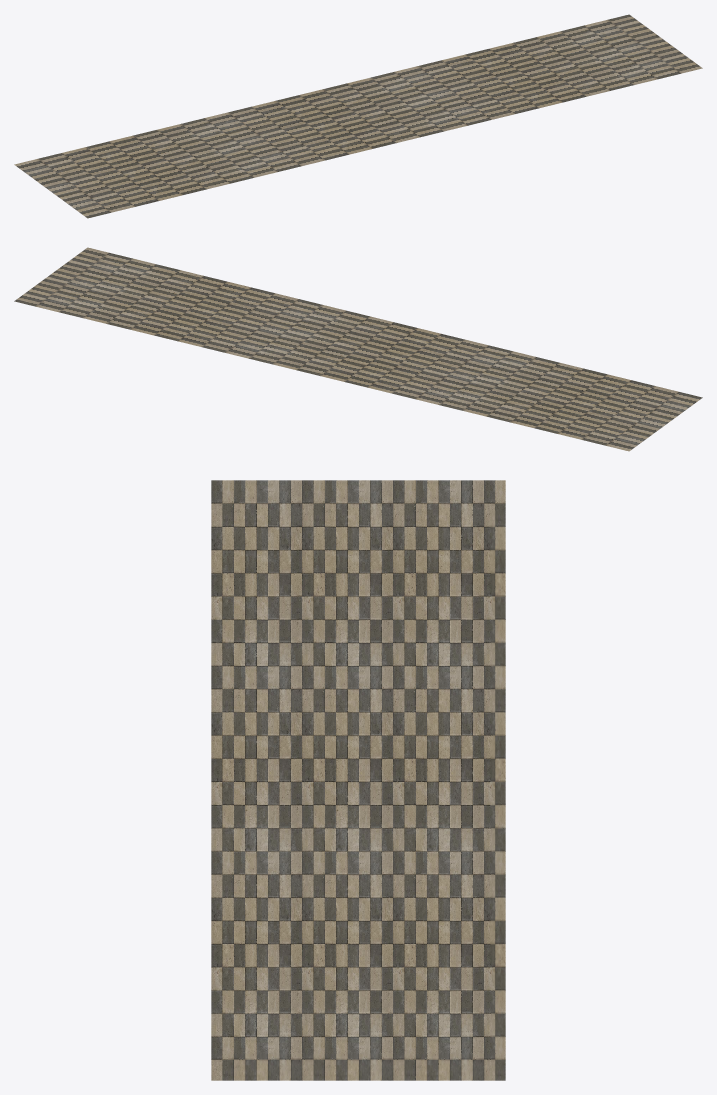
File: floor.obj
The picture shows the model from 3 angles, top to bottom: view 1: azimuth 30°, elevation 25°; view 2: azimuth 150°, elevation 25°; view 3: azimuth 270°, elevation 25°; orthographic projection. The views are drawn at different scales.
Visible parts, largest first — view 1: Plane; view 2: Plane; view 3: Plane.
Part boxes in pixels (<box>): Plane: <box>14,14,702,218</box>; Plane: <box>14,247,702,451</box>; Plane: <box>211,480,505,1080</box>.
Bounding box in the file's own units: 29.56 × 6e-06 × 6.13.
